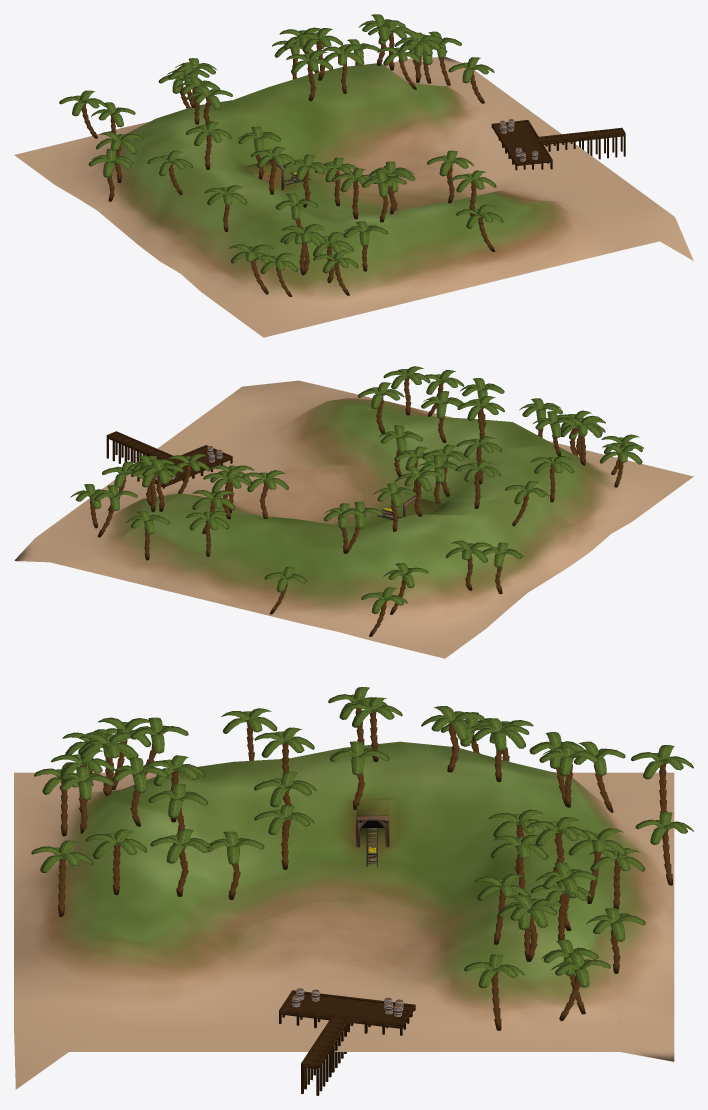
File: island5.fbx
3 renders of one model, top to bottom at view 1: azimuth 30°, elevation 25°; view 2: azimuth 150°, elevation 25°; view 3: azimuth 270°, elevation 25°, orthographic. The views are drawn at different scales.
Visible parts, largest first — view 1: Island5; view 2: Island5; view 3: Island5.
Boxes of the visible parts, x1=… form: Island5: x1=14, y1=14, x2=693, y2=337; Island5: x1=14, y1=366, x2=693, y2=658; Island5: x1=14, y1=687, x2=693, y2=1095.
Bounding box in the file's own units: 1336 × 343 × 1253.
